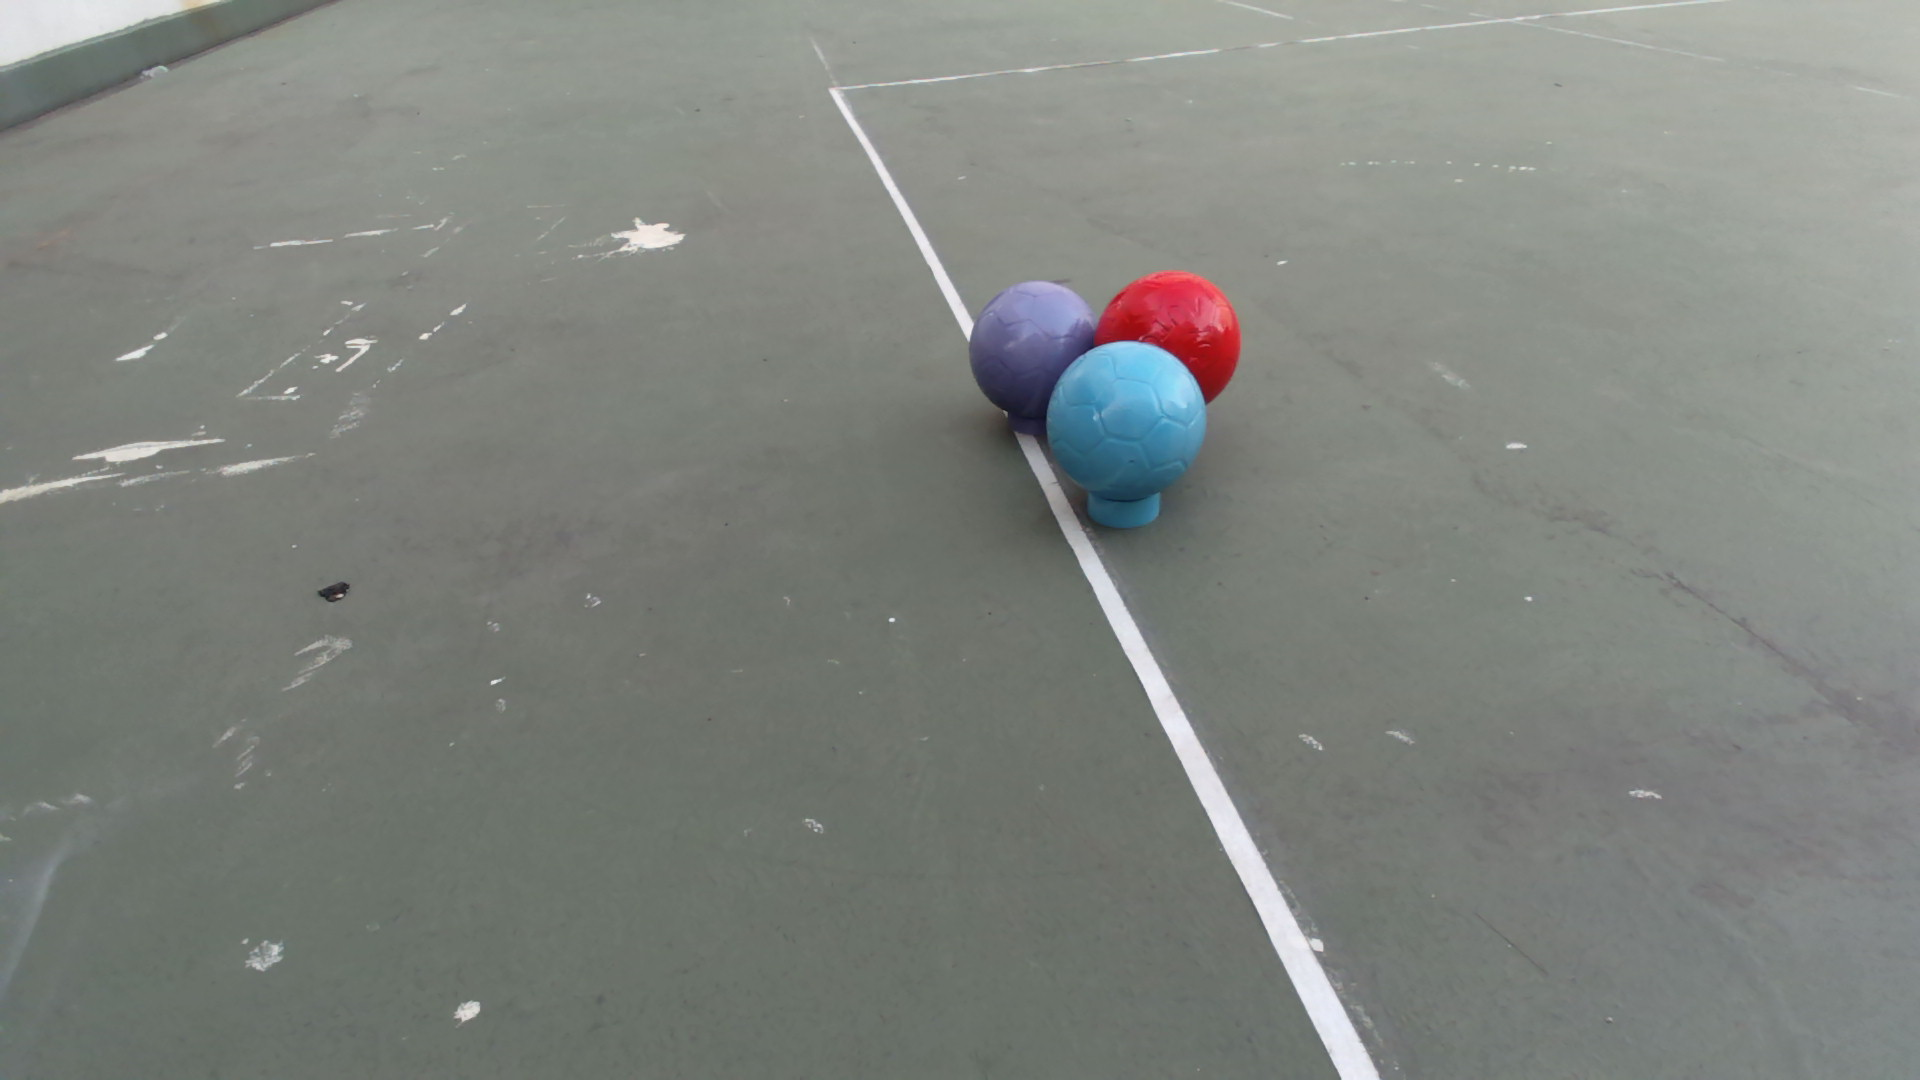Blue ball: (1044, 339, 1209, 504)
Purple ball: (967, 280, 1095, 414)
Red ball: (1095, 269, 1242, 405)
